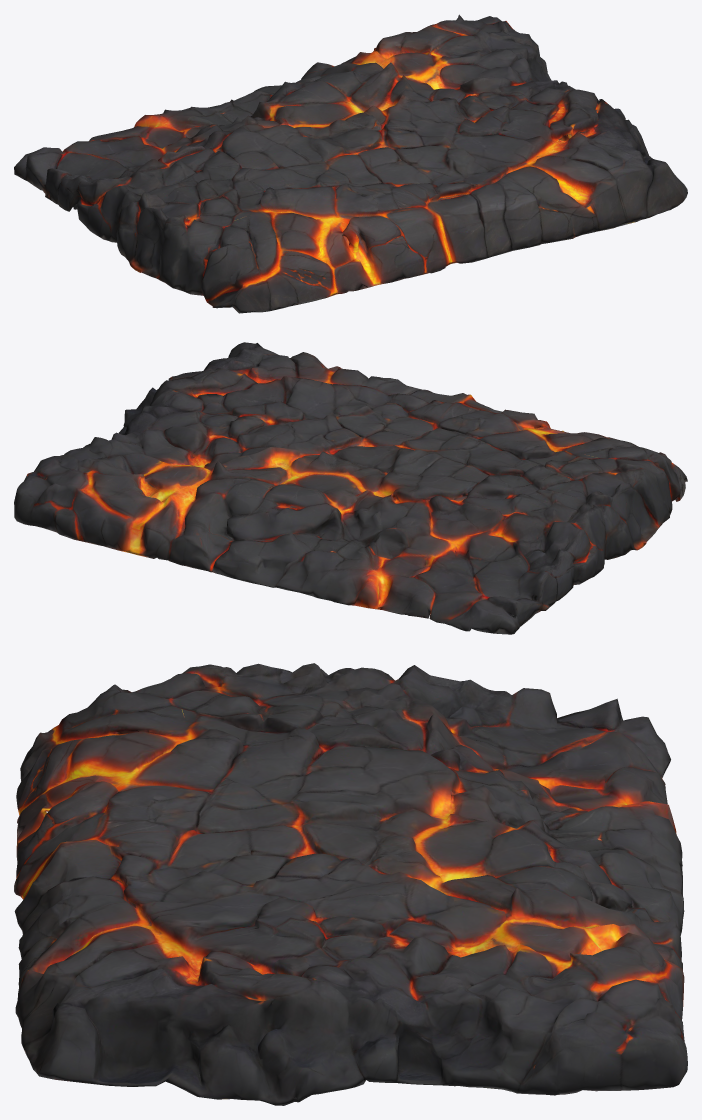
The model's file is Cracked_volcanic_rock_0923214303_texture.glb.
3 views of the same model, one above another, from view 1: azimuth 30°, elevation 25°; view 2: azimuth 150°, elevation 25°; view 3: azimuth 270°, elevation 25° (orthographic). The views are drawn at different scales.
Bounding box in the file's own units: 1.99 × 0.2482 × 1.52.
Materials: 1 (1 with a texture image).
